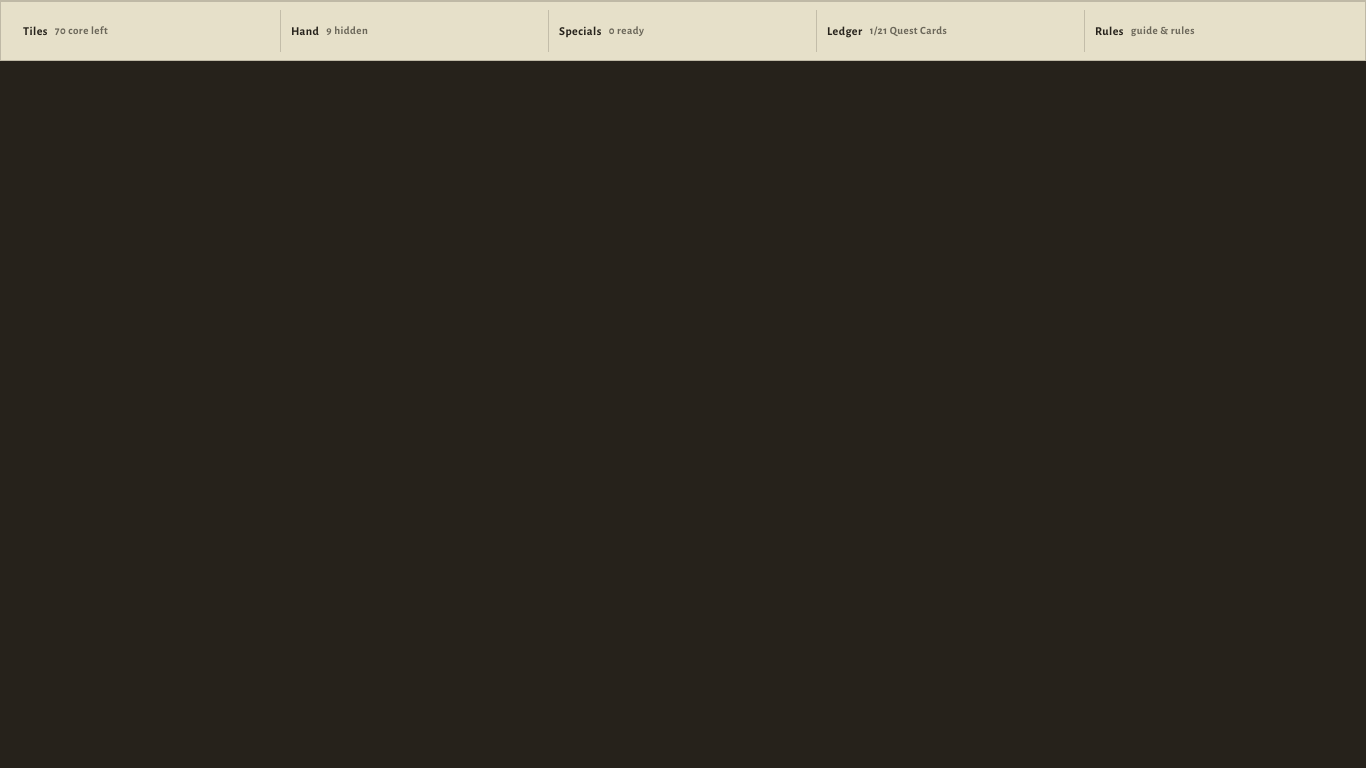
Test case: recorded settlement history › shows a stored completed score from a new game and supports roving Ledger navigation
Click the tab "Ledger 1/21 Quest Cards".
click(845, 31)  # box left=817, top=10, right=1085, bottom=52
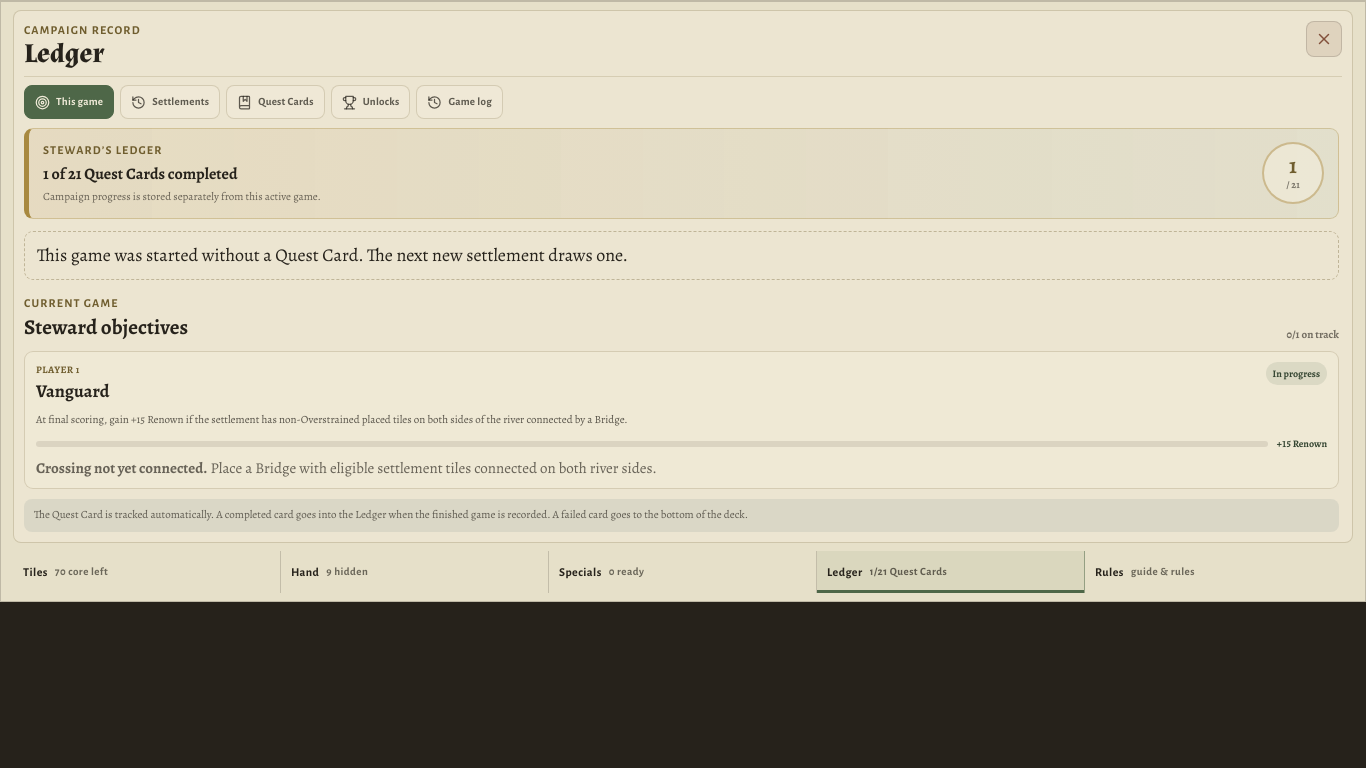
Press ArrowRight in the tab "This game", box left=24, top=85, right=114, bottom=119
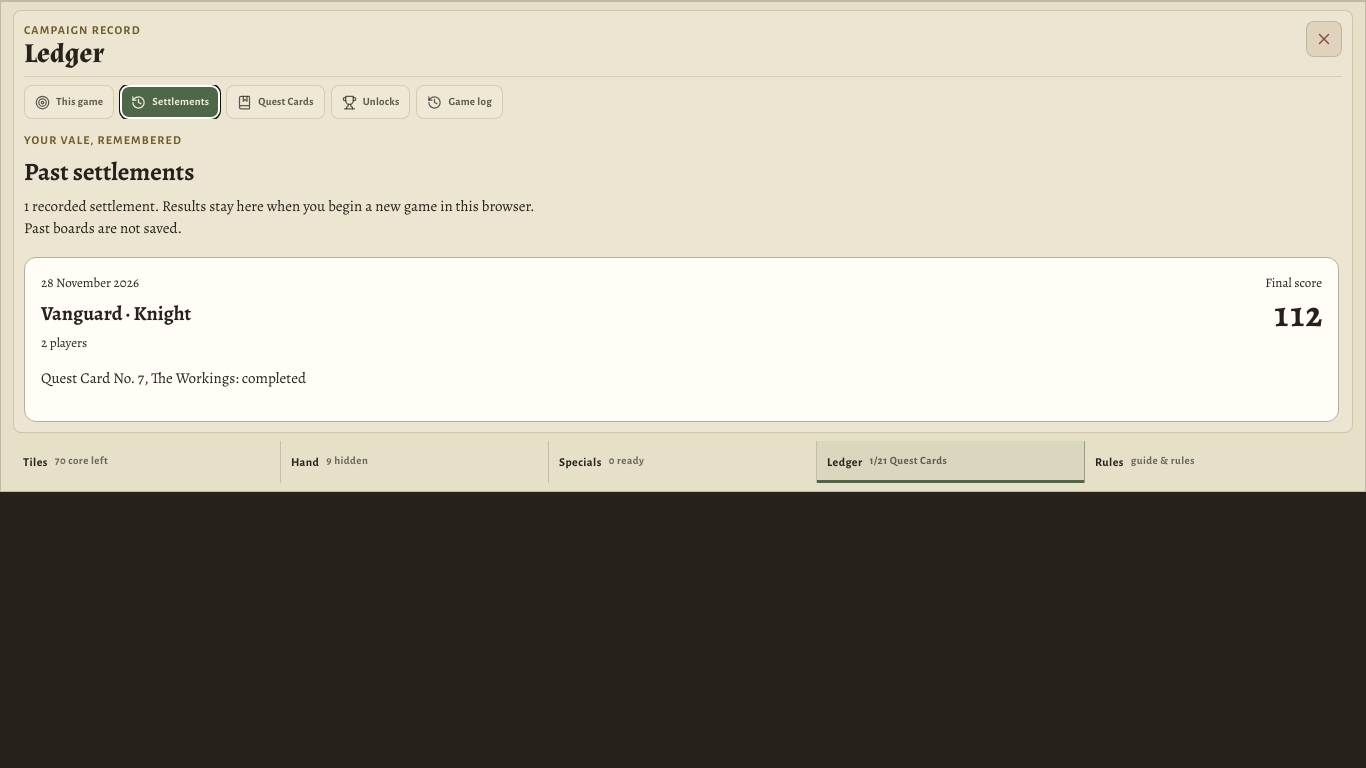
Now the panel "settlements" shows "1 recorded settlement", box left=24, top=128, right=1342, bottom=422
Now the text named "Final score 112" is shown, box left=1273, top=289, right=1322, bottom=338
Now the element "Past settlements" shows "Vanguard · Knight", box left=41, top=300, right=191, bottom=327
Press End in the tab "Settlements", box left=120, top=85, right=220, bottom=119
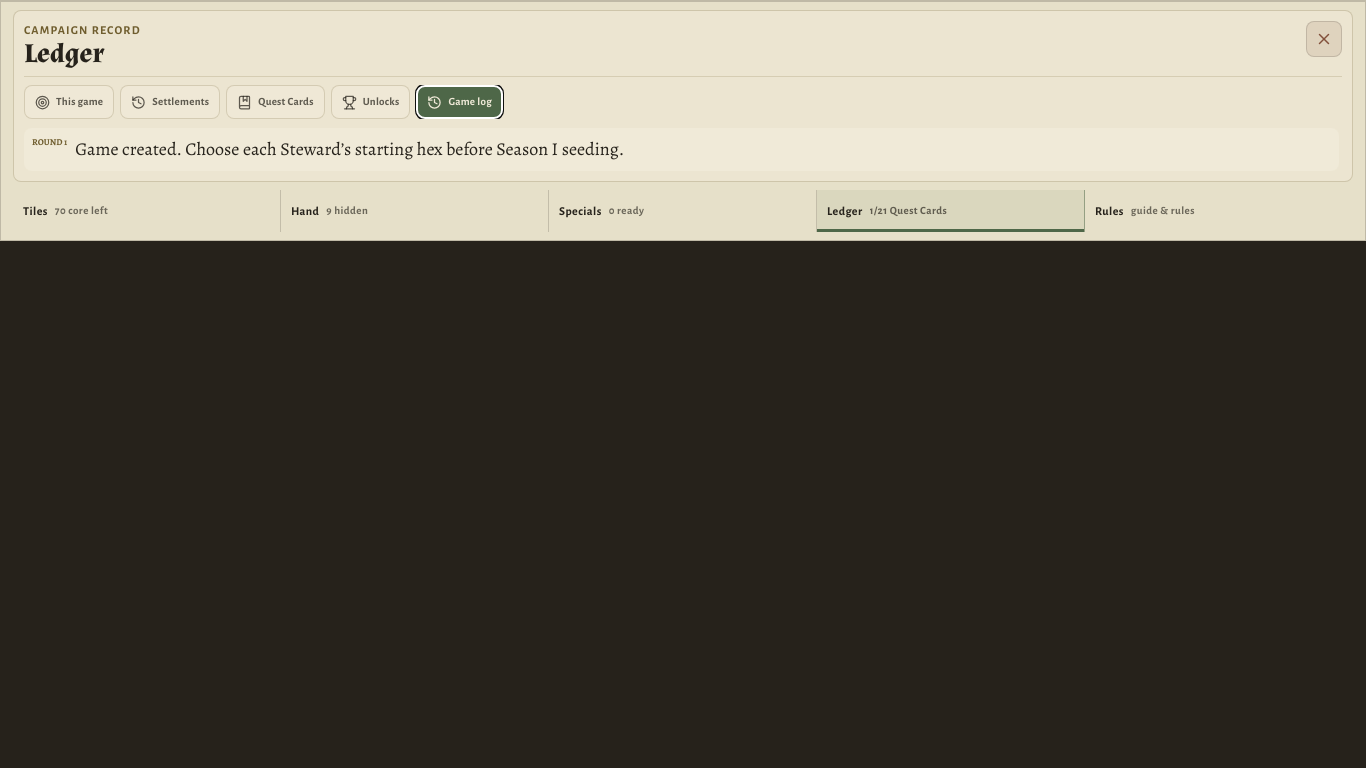
Now the panel named "Game log" shows "Game created", box left=75, top=137, right=624, bottom=161
